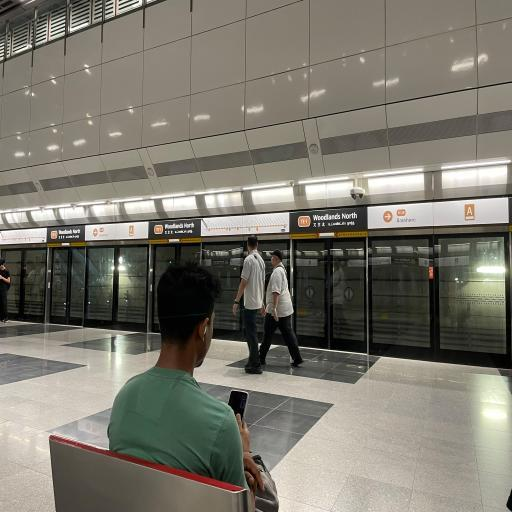person_left: (234, 226, 266, 378), (269, 242, 303, 376)
